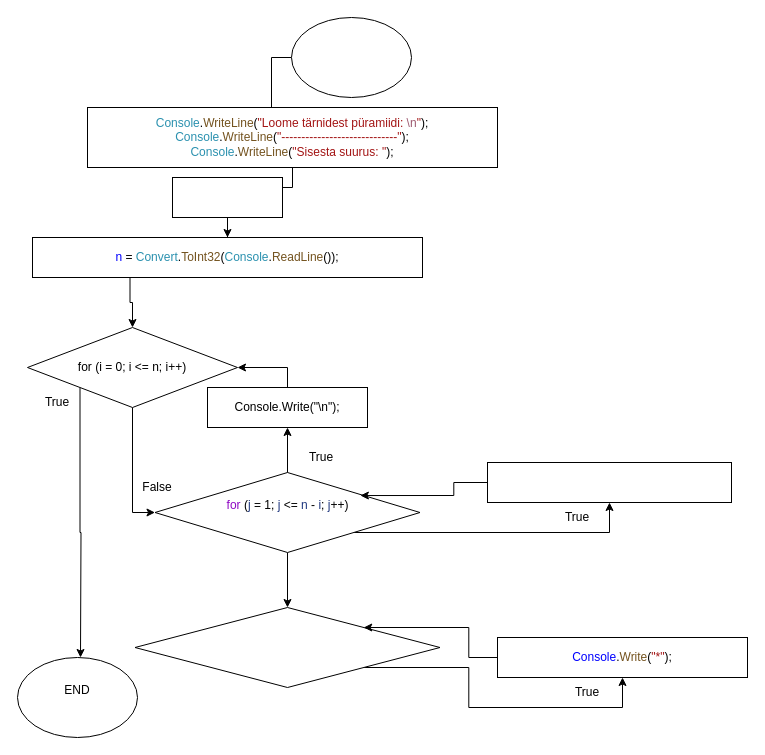
Image size: 765x755. Some labels were removed from this diagram. The shapes that lost their labels are listed below. From the top down, each one's centre as x and y in pixels, then its label:
point 351,57: START
point 227,197: int j, i, n;
point 609,482: Console . Write ( " " );
point 287,647: for ( j = 1; j <= 2 * i - 1; j ++)
